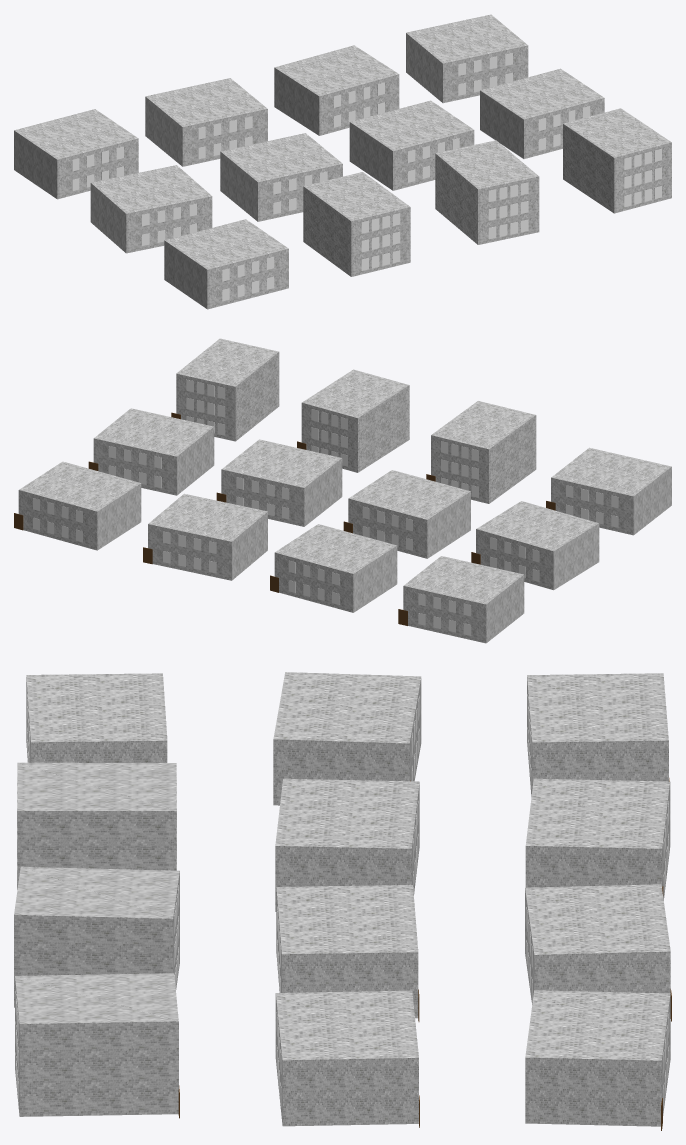
File: bld_mln39520_umfo3rf.glb
The picture shows the model from 3 angles, top to bottom: view 1: azimuth 30°, elevation 25°; view 2: azimuth 150°, elevation 25°; view 3: azimuth 270°, elevation 25°; orthographic projection. The views are drawn at different scales.
Parts seen in each view (by area): view 1: building-building-1771120220121-14, building-building-1771120220121-12, building-building-1771120220121-13, building-building-1771120220121-11, building-building-1771120220121-3, building-building-1771120220121-1, building-building-1771120220121-4, building-building-1771120220121-2, building-building-1771120220121-6, building-building-1771120220121-8, building-building-1771120220121-9, building-building-1771120220121-7; view 2: building-building-1771120220121-13, building-building-1771120220121-2, building-building-1771120220121-4, building-building-1771120220121-1, building-building-1771120220121-12, building-building-1771120220121-3, building-building-1771120220121-6, building-building-1771120220121-7, building-building-1771120220121-14, building-building-1771120220121-9, building-building-1771120220121-11, building-building-1771120220121-8; view 3: building-building-1771120220121-14, building-building-1771120220121-4, building-building-1771120220121-9, building-building-1771120220121-13, building-building-1771120220121-12, building-building-1771120220121-6, building-building-1771120220121-3, building-building-1771120220121-2, building-building-1771120220121-7, building-building-1771120220121-8, building-building-1771120220121-1, building-building-1771120220121-11.
Part boxes in pixels (<box>): building-building-1771120220121-14: <box>563,108,671,213</box>; building-building-1771120220121-12: <box>303,172,410,276</box>; building-building-1771120220121-13: <box>435,140,539,244</box>; building-building-1771120220121-11: <box>164,219,288,309</box>; building-building-1771120220121-3: <box>274,45,399,135</box>; building-building-1771120220121-1: <box>14,109,138,199</box>; building-building-1771120220121-4: <box>406,14,528,103</box>; building-building-1771120220121-2: <box>145,78,267,166</box>; building-building-1771120220121-6: <box>90,165,212,253</box>; building-building-1771120220121-8: <box>349,100,474,190</box>; building-building-1771120220121-9: <box>480,68,604,158</box>; building-building-1771120220121-7: <box>220,133,342,221</box>; building-building-1771120220121-13: <box>297,369,409,472</box>; building-building-1771120220121-2: <box>270,524,397,612</box>; building-building-1771120220121-4: <box>14,461,141,550</box>; building-building-1771120220121-1: <box>398,556,524,643</box>; building-building-1771120220121-12: <box>426,401,536,503</box>; building-building-1771120220121-3: <box>143,493,267,580</box>; building-building-1771120220121-6: <box>471,501,599,590</box>; building-building-1771120220121-7: <box>343,470,470,558</box>; building-building-1771120220121-14: <box>171,338,279,441</box>; building-building-1771120220121-9: <box>88,408,214,495</box>; building-building-1771120220121-11: <box>546,447,671,535</box>; building-building-1771120220121-8: <box>216,439,342,526</box>; building-building-1771120220121-14: <box>15,973,179,1118</box>; building-building-1771120220121-4: <box>525,990,670,1130</box>; building-building-1771120220121-9: <box>275,990,419,1127</box>; building-building-1771120220121-13: <box>14,866,179,1007</box>; building-building-1771120220121-12: <box>17,762,176,889</box>; building-building-1771120220121-6: <box>273,672,421,805</box>; building-building-1771120220121-3: <box>525,884,671,1021</box>; building-building-1771120220121-2: <box>525,778,670,900</box>; building-building-1771120220121-7: <box>275,778,419,911</box>; building-building-1771120220121-8: <box>276,885,419,1021</box>; building-building-1771120220121-1: <box>527,673,669,796</box>; building-building-1771120220121-11: <box>26,673,167,762</box>.
Bounding box in the file's own units: 81.55 × 9.03 × 57.79.
60 materials, 12 textured.
